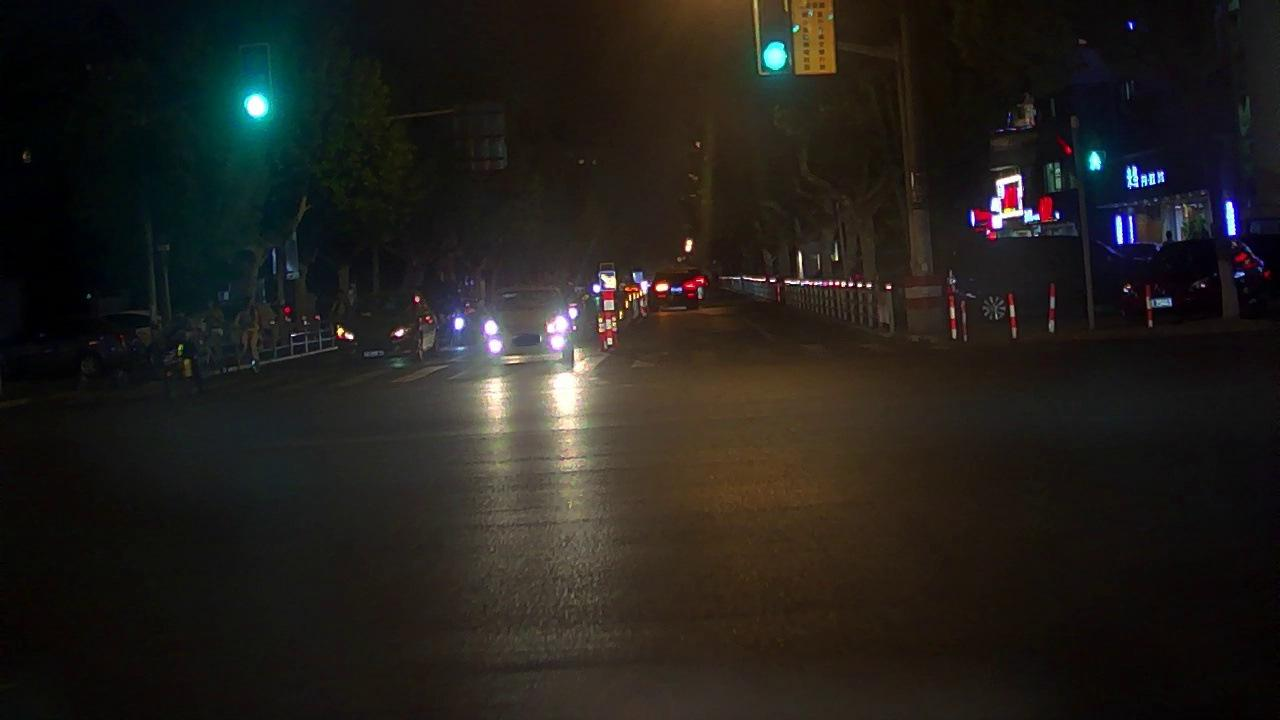traffic_light: (757, 1, 791, 74), (242, 46, 272, 123)
